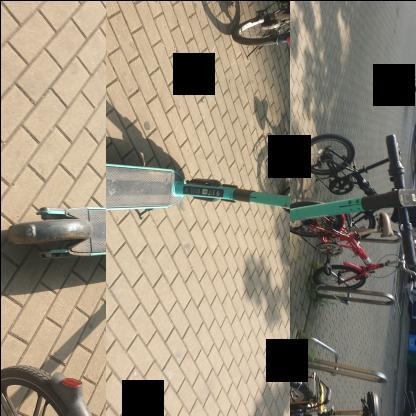kickboard: (105, 0, 289, 416)
